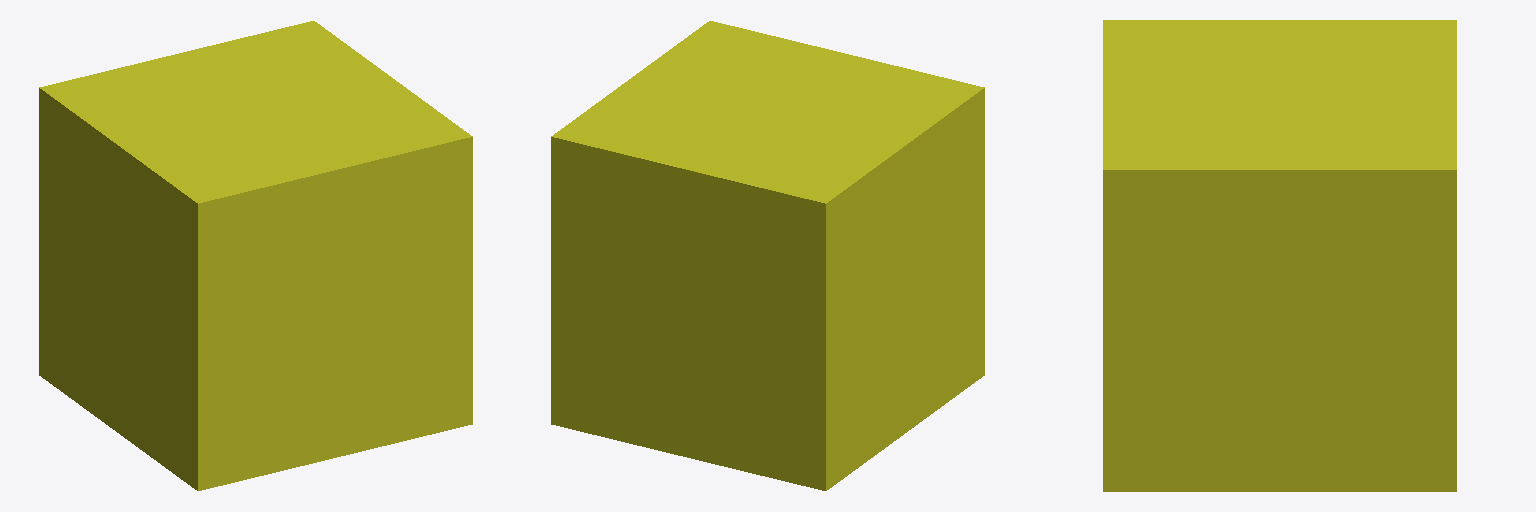
URDF robot description (cube_2):
<?xml version="1.0" ?>
<robot name="cube_2">
    <link name="cube_link_2">
        <inertial>
            <origin rpy="0 0 0" xyz="0.0 0.0 -0.01712"/>
            
            <mass value="0.5"/>
            
            <inertia 
                ixx="0.00060553" 
                ixy="0.0" 
                ixz="0.0" 
                iyy="0.00060553" 
                iyz="0.0" 
                izz="0.00075201"/>
        </inertial>
        
        <visual>
            <origin rpy="0 0 0" xyz="0 0 0"/>
            <geometry>
            <mesh filename="meshes/objects/cube_2.stl"/>
            </geometry>
            <material name="Yellow">
            <color rgba="0.8 0.8 0.2 1.0"/>
            </material>
        </visual>
        
        <collision>
            <origin rpy="0 0 0" xyz="0 0 0"/>
            <geometry>
                <box size="0.092 0.092 0.092"/>
            </geometry>
        </collision>
    </link>
</robot>

--- Facts derived from the render (not from the file) ---
Views: 3 orthographic renders of the robot side by side, from view 1: azimuth 30°, elevation 25°; view 2: azimuth 150°, elevation 25°; view 3: azimuth 270°, elevation 25°.
Model cube_2 with 1 links and 0 joints (none), rooted at cube_link_2, posed every joint at zero.
Visible links, largest first — view 1: cube_link_2; view 2: cube_link_2; view 3: cube_link_2.
Boxes of the visible links, box(x1,y1,x2,y2) form: cube_link_2: box(39, 21, 472, 490); cube_link_2: box(551, 21, 984, 490); cube_link_2: box(1103, 20, 1456, 491).
Bounding box of the posed robot: 0.092 × 0.092 × 0.092 m (x, y, z).
1 mesh visuals loaded from 1 distinct referenced files (1 binary STL).
